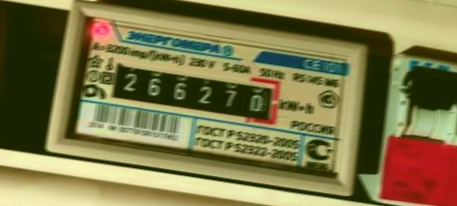0: (246, 92, 263, 114)
2: (121, 71, 137, 93), (197, 84, 213, 106)
6: (145, 75, 160, 98), (171, 80, 187, 101)
7: (223, 88, 235, 108)
screen: (97, 51, 287, 132)
